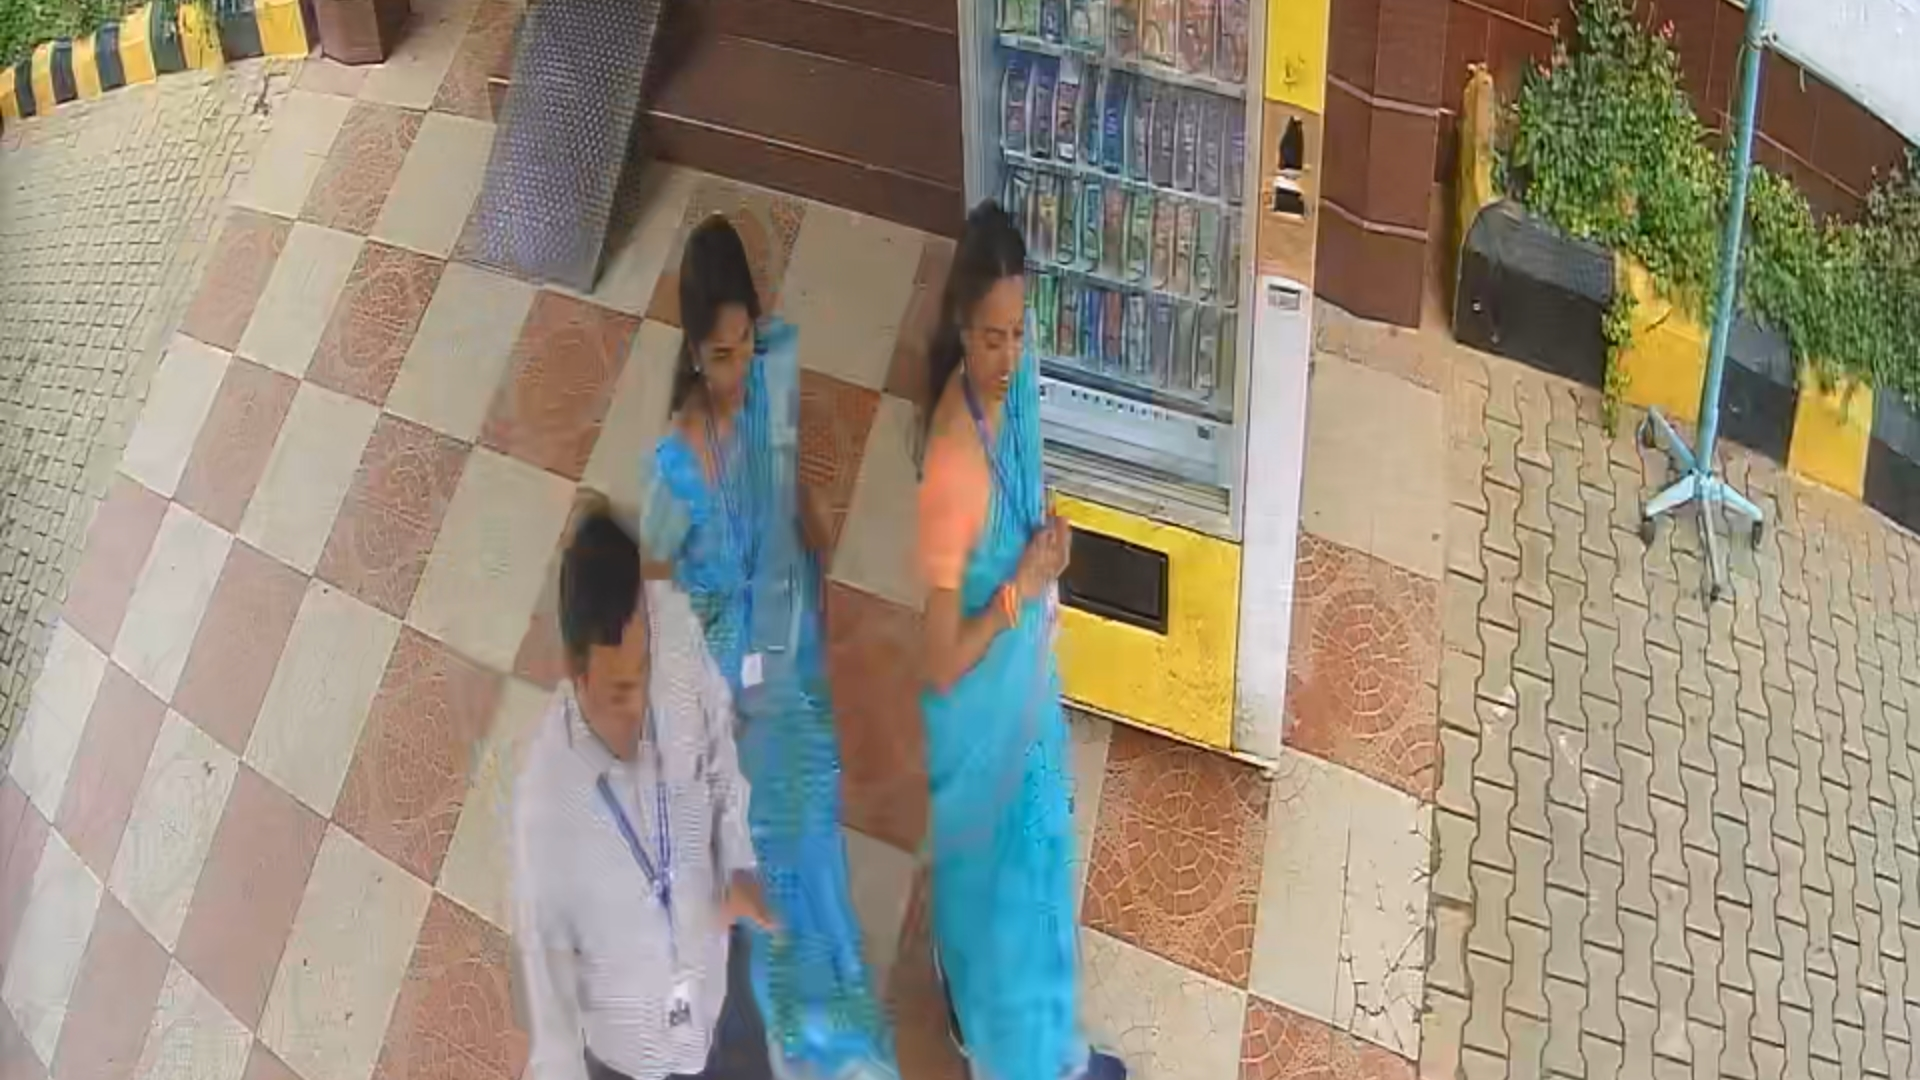not intruder: (659, 214, 885, 1080), (905, 199, 1104, 1080), (531, 510, 764, 1080)
